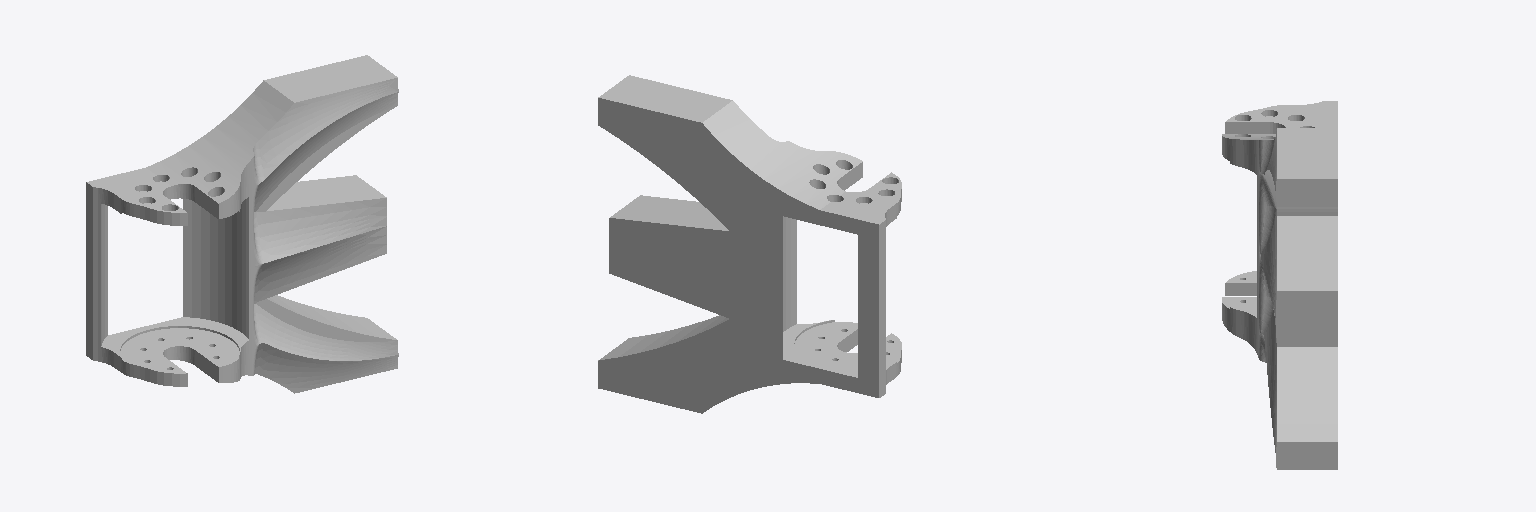
The model's file is foot.obj.
3 views of the same model, side by side, from view 1: azimuth 30°, elevation 25°; view 2: azimuth 150°, elevation 25°; view 3: azimuth 270°, elevation 25° (orthographic).
Parts seen in each view (by area): view 1: Body1; view 2: Body1; view 3: Body1.
Boxes of the visible parts, box(x1,y1,x2,y2) form: Body1: box(86, 55, 398, 393); Body1: box(598, 75, 901, 413); Body1: box(1222, 101, 1337, 469).
Size of the model in its own units: 0.0947 by 0.0937 by 0.034.